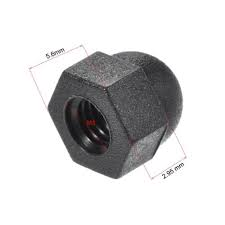Thread: (58, 89, 122, 158)
